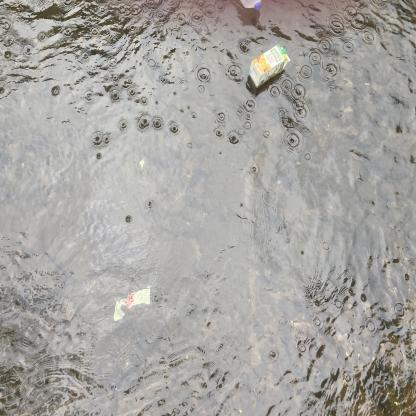trash: (248, 40, 292, 96), (108, 283, 154, 327), (235, 0, 266, 17)
